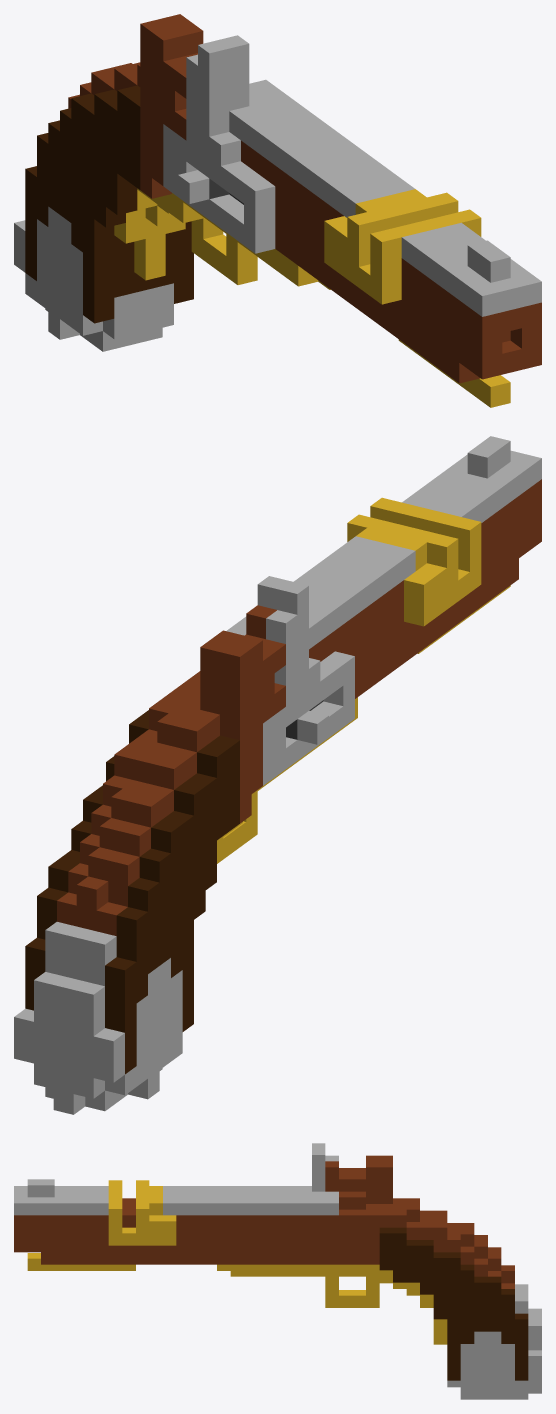
The model's file is gun.obj.
3 renders of one model, top to bottom at view 1: azimuth 30°, elevation 25°; view 2: azimuth 150°, elevation 25°; view 3: azimuth 270°, elevation 25°, orthographic. The views are drawn at different scales.
Bounding box in the file's own units: 6 × 19 × 39.
1 material, 1 textured.
